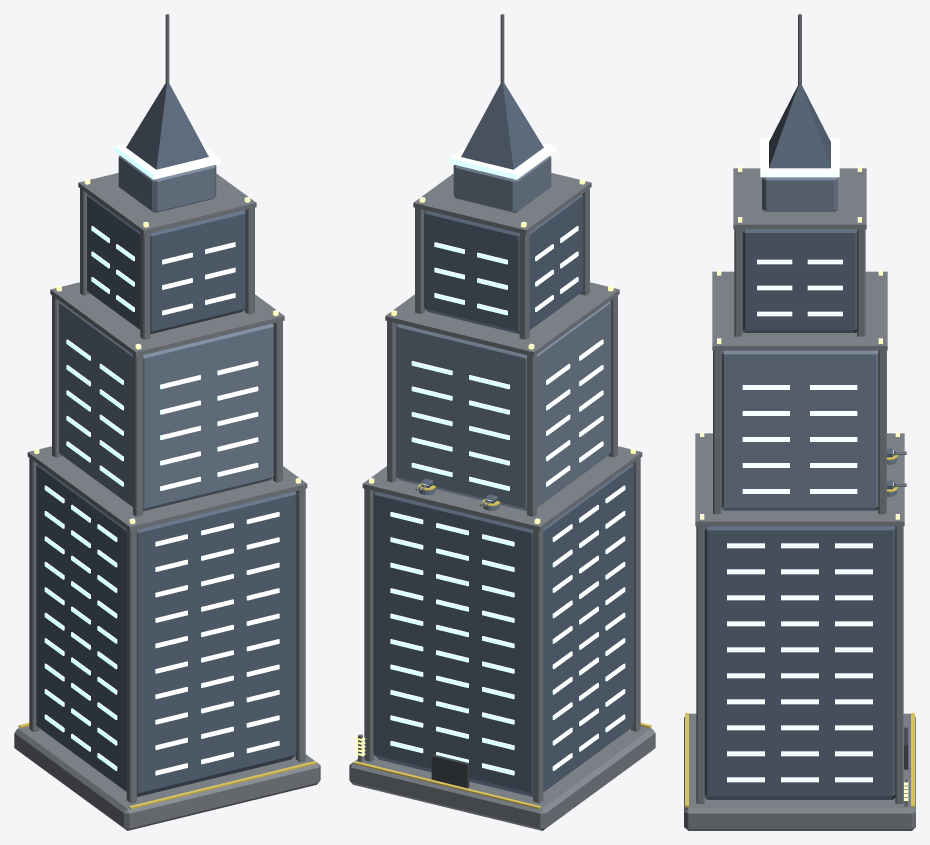
File: zone_high_4_t5.glb
3 renders of one model, left to right at view 1: azimuth 30°, elevation 25°; view 2: azimuth 150°, elevation 25°; view 3: azimuth 270°, elevation 25°, orthographic. The views are drawn at different scales.
Parts seen in each view (by area): view 1: zone_high_4_t5, detail; view 2: zone_high_4_t5, detail; view 3: zone_high_4_t5, detail.
Boxes of the visible parts, x1=… form: zone_high_4_t5: x1=14, y1=83, x2=320, y2=830; detail: x1=18, y1=14, x2=316, y2=809; zone_high_4_t5: x1=349, y1=83, x2=655, y2=830; detail: x1=353, y1=14, x2=651, y2=809; zone_high_4_t5: x1=684, y1=85, x2=915, y2=830; detail: x1=685, y1=14, x2=914, y2=807.
Bounding box in the file's own units: 27.5 × 101 × 27.5.
